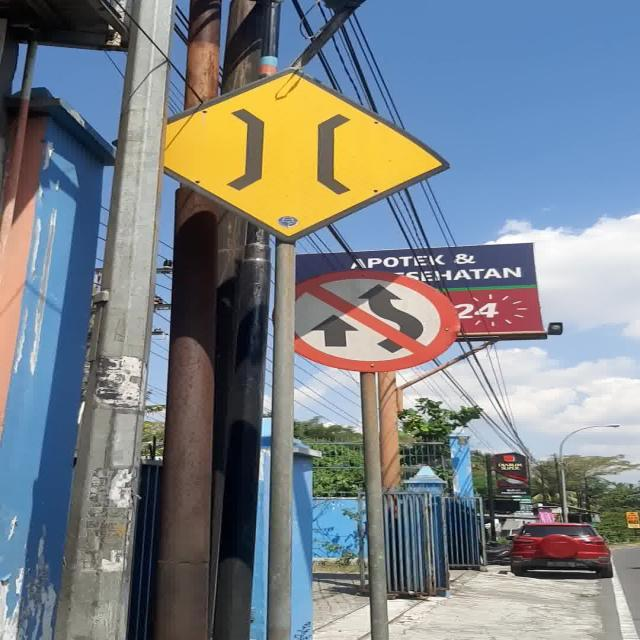Dilarang Mendahului: (296, 269, 460, 372)
